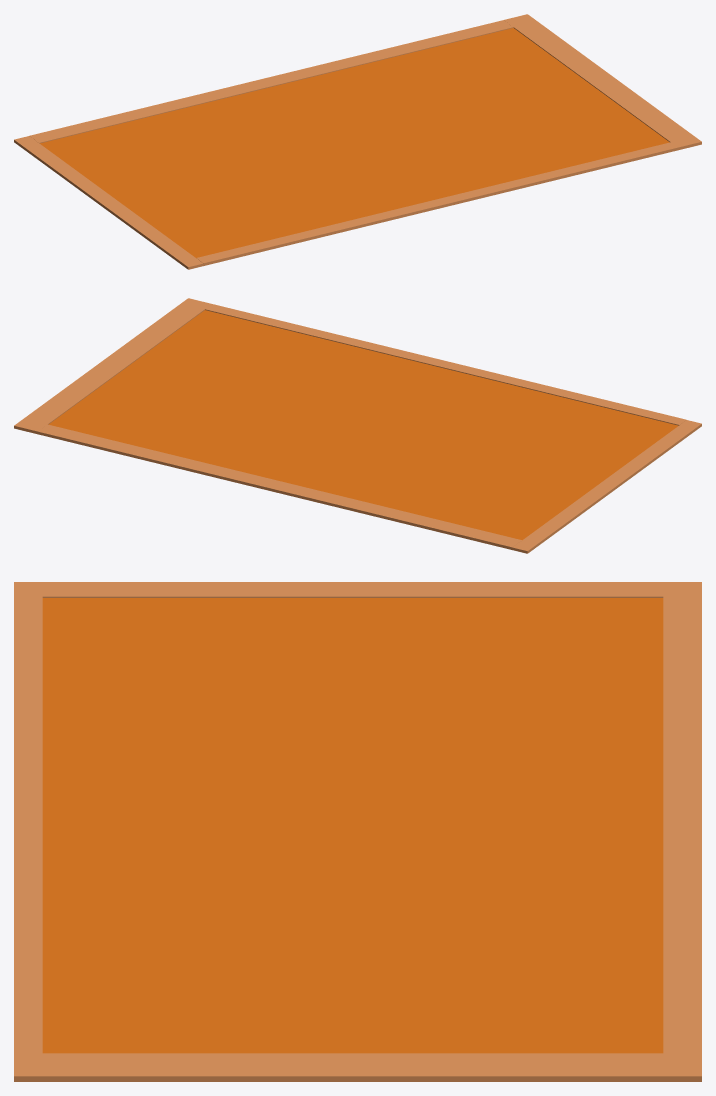
Rendered from floor.fbx.
The picture shows the model from 3 angles, top to bottom: view 1: azimuth 30°, elevation 25°; view 2: azimuth 150°, elevation 25°; view 3: azimuth 270°, elevation 25°; orthographic projection. The views are drawn at different scales.
Parts seen in each view (by area): view 1: Plane; view 2: Plane; view 3: Plane.
Part boxes in pixels (x1,y1,x2,y2): Plane: (14, 14, 701, 269); Plane: (14, 298, 701, 553); Plane: (14, 582, 701, 1081).
Size of the model in its own units: 4196 by 21.89 by 2466.
